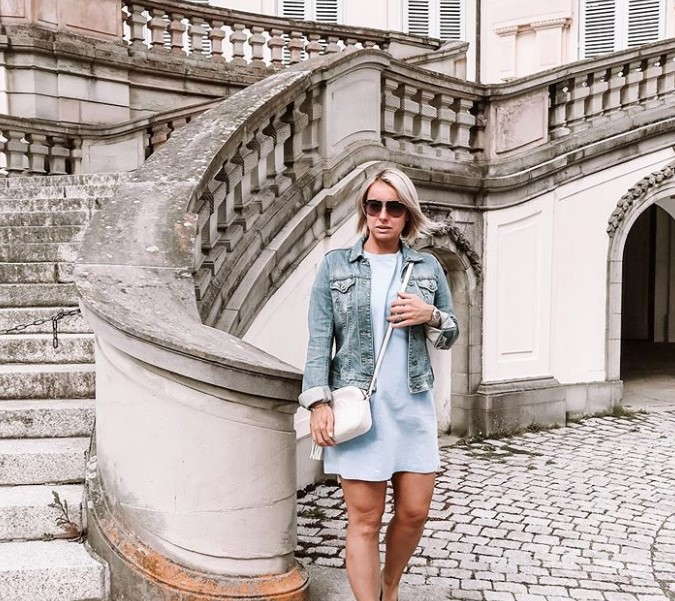face_no_mask: (361, 167, 416, 250)
